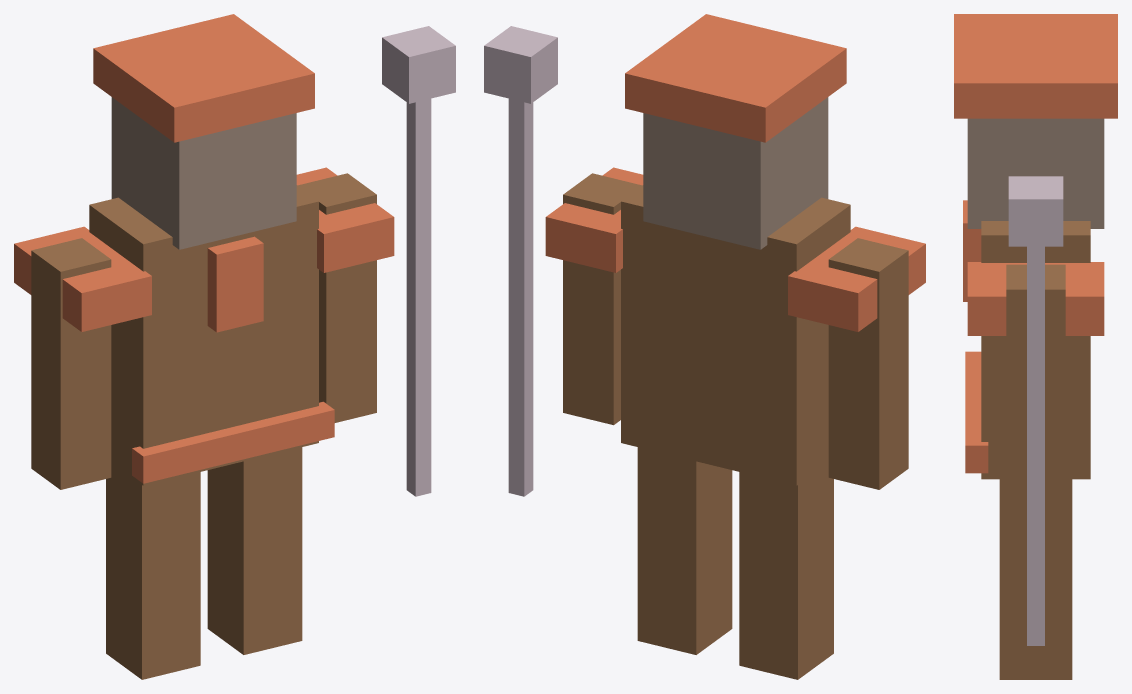
The model's file is 02_astra_ashvein_sentinel_under_quarantine.glb.
3 renders of one model, left to right at view 1: azimuth 30°, elevation 25°; view 2: azimuth 150°, elevation 25°; view 3: azimuth 270°, elevation 25°, orthographic.
Parts seen in each view (by area): view 1: Astra Ashvein, Sentinel under Quarantine; view 2: Astra Ashvein, Sentinel under Quarantine; view 3: Astra Ashvein, Sentinel under Quarantine.
Part boxes in pixels (bbox=[...]): Astra Ashvein, Sentinel under Quarantine: bbox=[14, 14, 455, 679]; Astra Ashvein, Sentinel under Quarantine: bbox=[484, 14, 925, 679]; Astra Ashvein, Sentinel under Quarantine: bbox=[954, 14, 1117, 679].
Size of the model in its own units: 1.04 by 1.46 by 0.3672.
